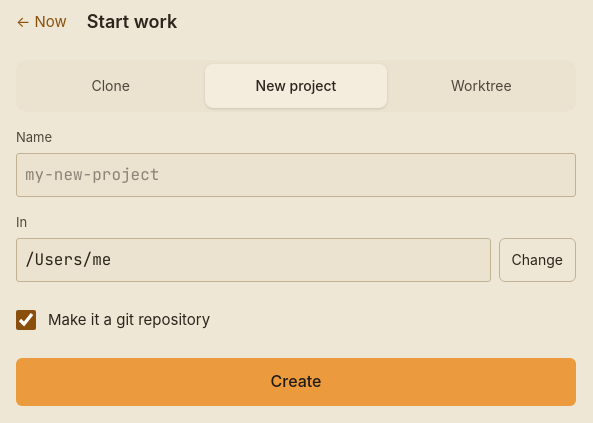
Start work › creates a new project with git init
Check: the field showing "/Users/me" is shown, box x1=16 y1=238 x2=491 y2=282
Type "fresh" into the field with placeholder "my-new-project".
click(296, 175); type("fresh")  # box x1=16 y1=153 x2=576 y2=197
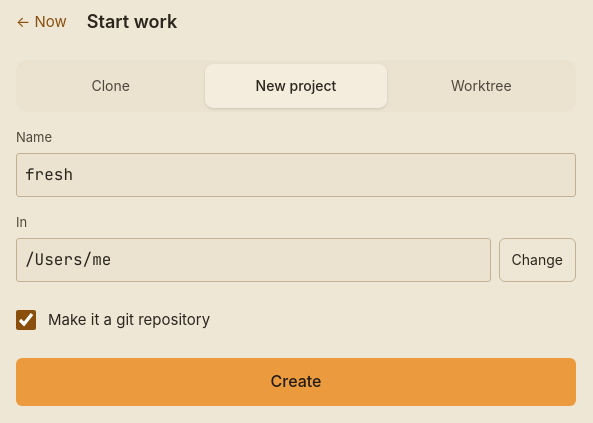
Click the button "Create".
click(296, 382)  # box x1=16 y1=358 x2=576 y2=406
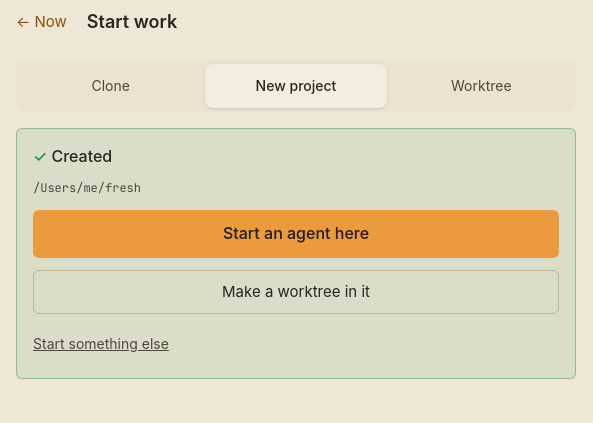
Check: the text "/Users/me/fresh" is shown, box x1=33 y1=180 x2=141 y2=196
Check: the button "Make a worktree in it" is shown, box x1=33 y1=270 x2=559 y2=314
